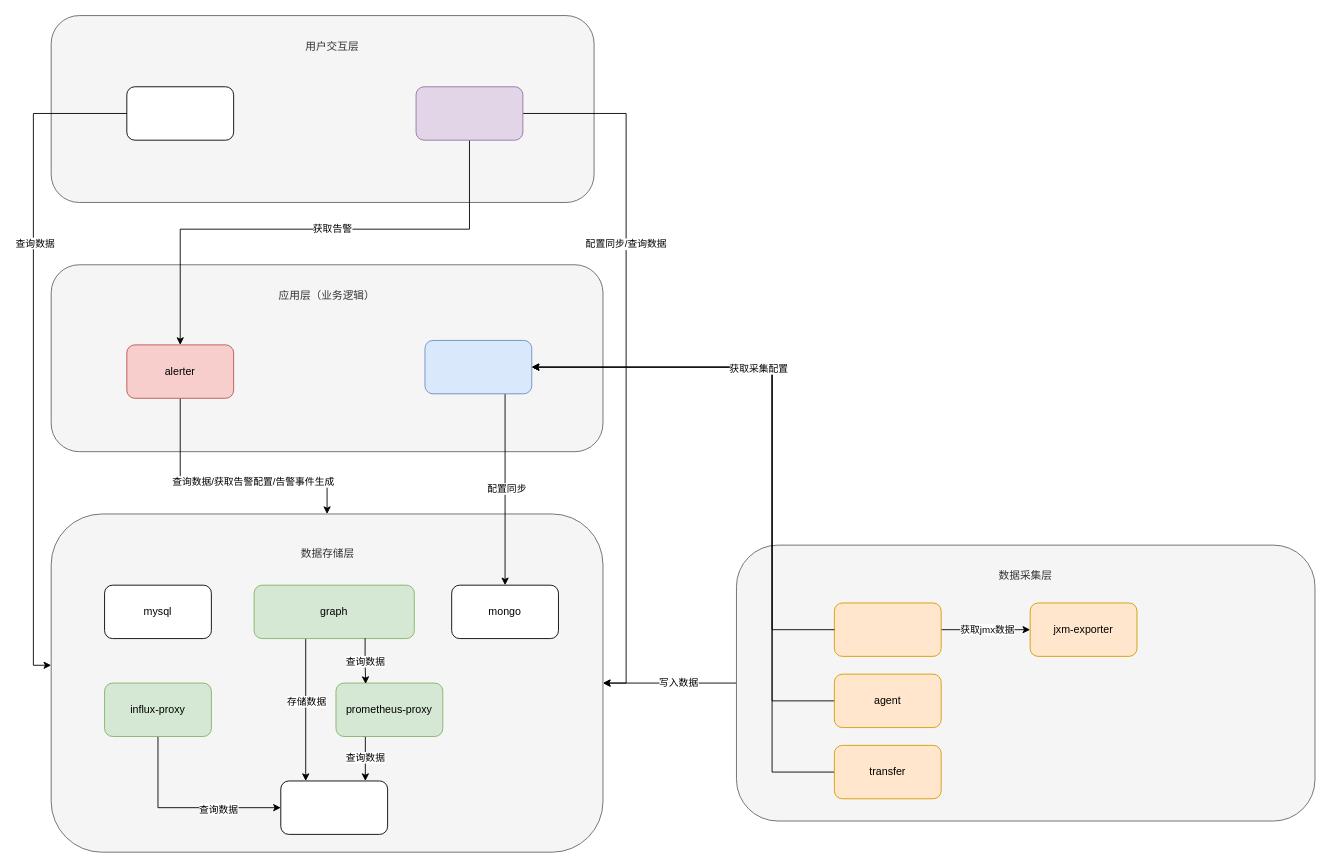
This 1331x868 diagram has some shape labels left out. Each missing label, with the box of its shape:
controller: (424, 340, 532, 394)
dashboard: (415, 86, 523, 140)
grafana: (126, 86, 234, 140)
influxdb: (280, 780, 388, 834)
scraper: (833, 602, 941, 656)
